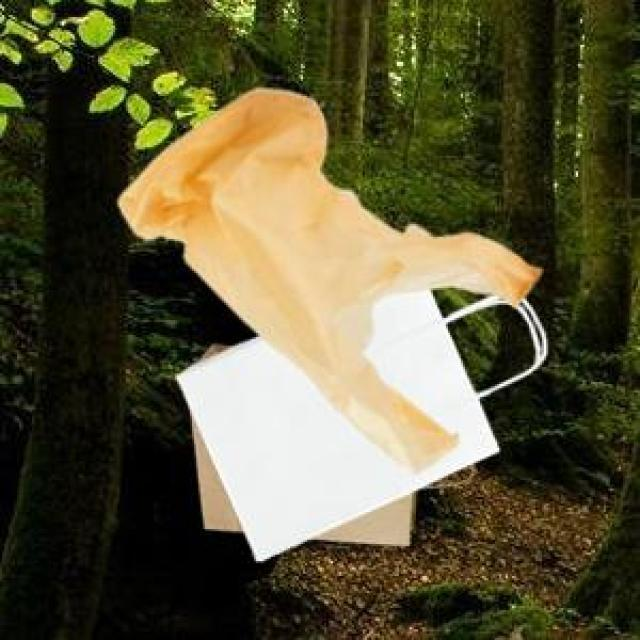paper: (173, 286, 542, 557), (188, 341, 411, 542)
